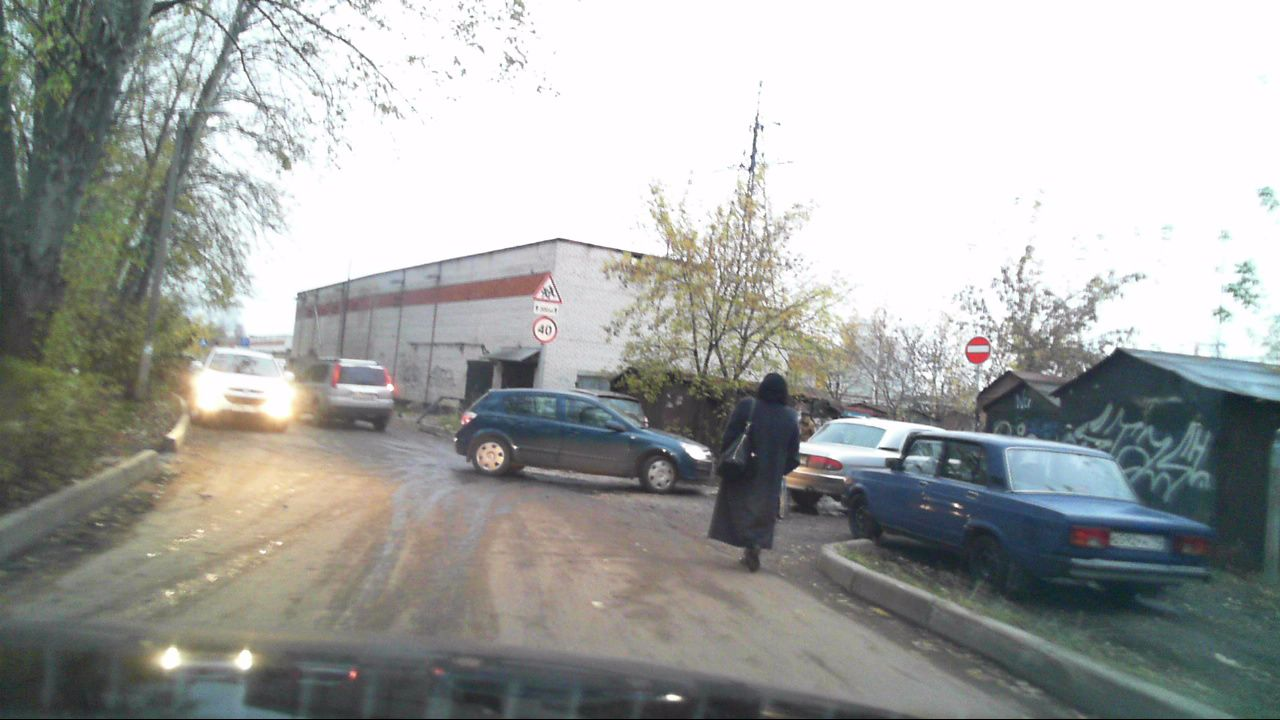speed_warning_40: (532, 318, 556, 342)
